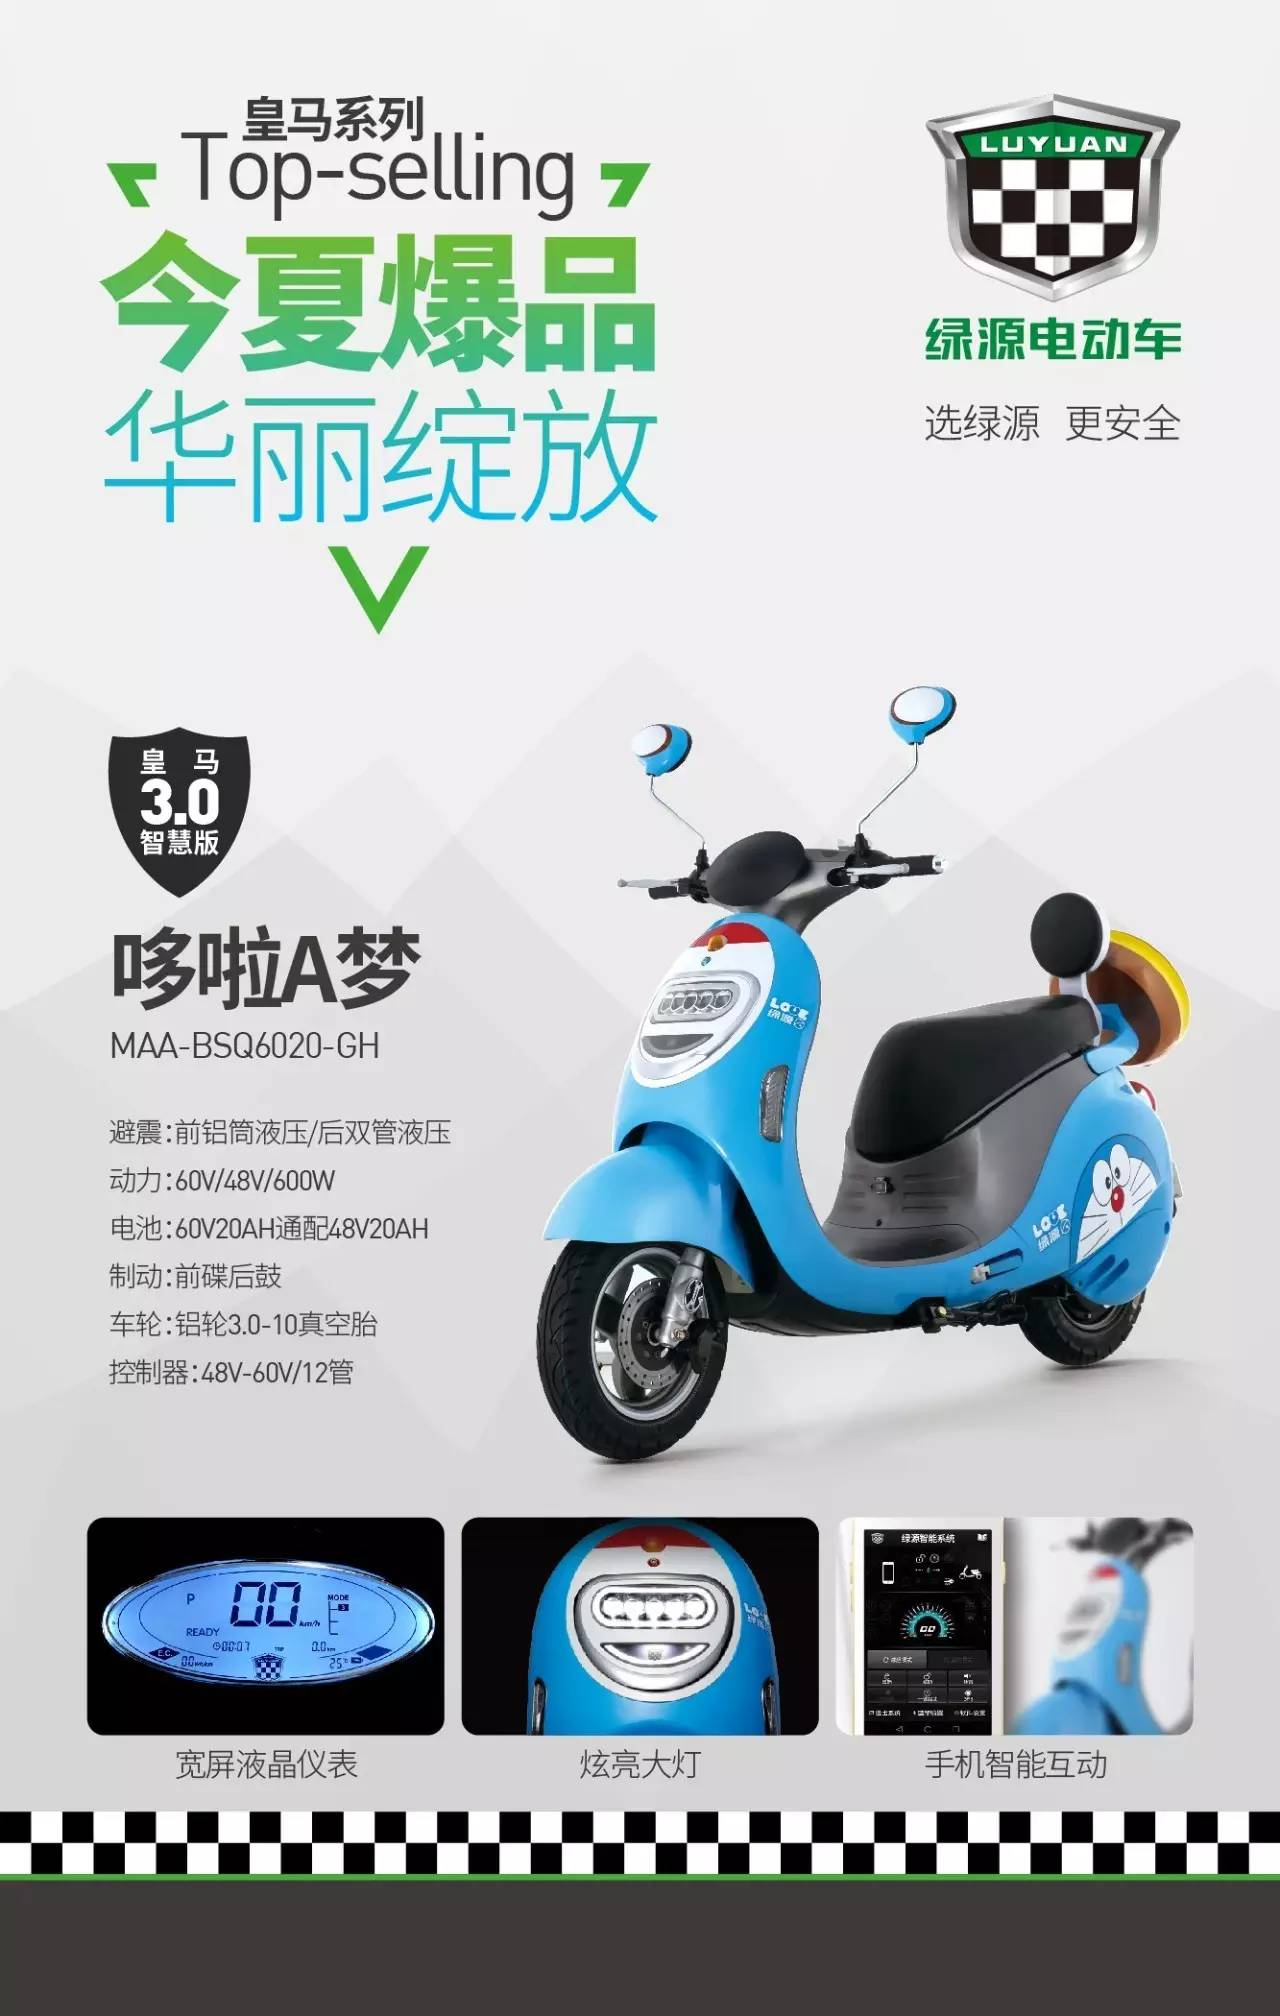电动车: (495, 672, 1232, 1466)
